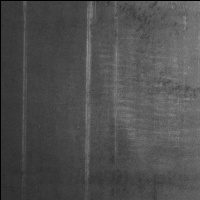scratches: (82, 3, 98, 186), (20, 2, 29, 168)
